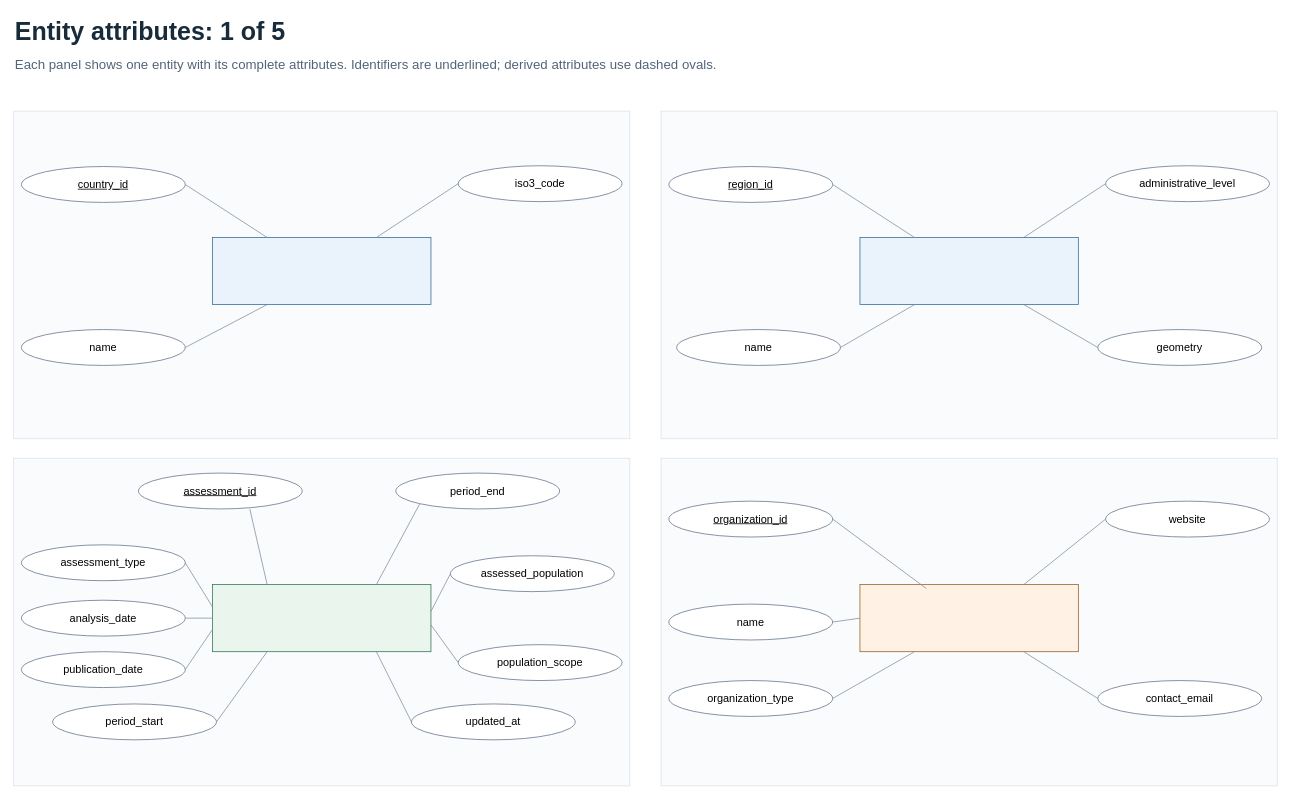
Some shapes in this 1291 by 800 pixel diagram are drawn without their labels. Each missing label, with the centre of its shape:
"01 Country" goes at [321,271].
"02 Region" goes at [968,271].
"03 Food Security Assessment" goes at [321,618].
"04 Organization" goes at [968,618].
